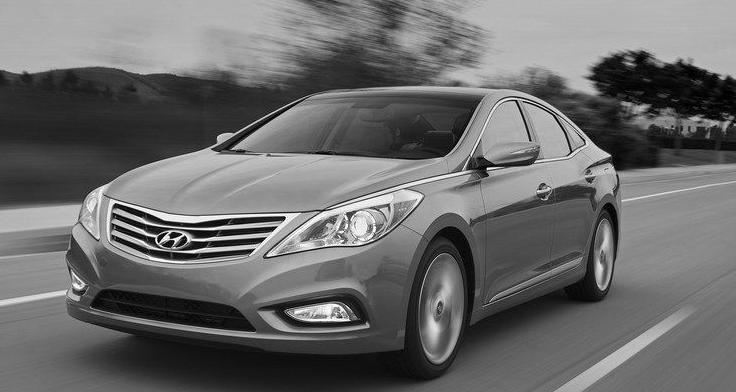car: (60, 81, 629, 376)
